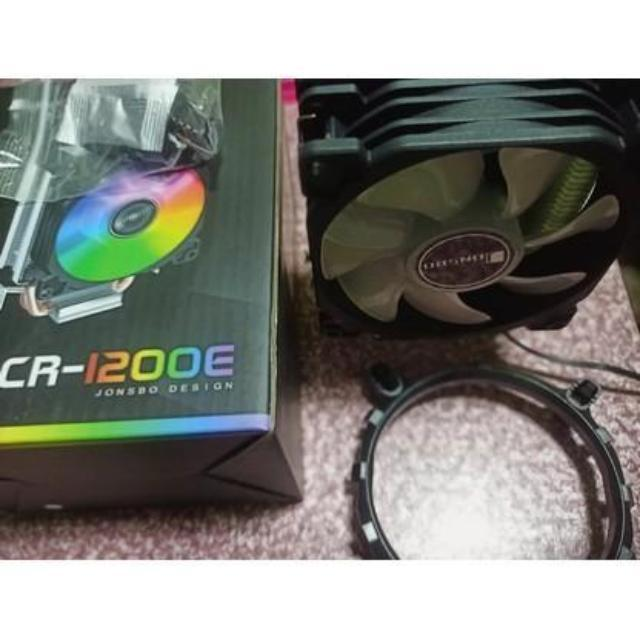CPU_Fan: (292, 68, 640, 334)
